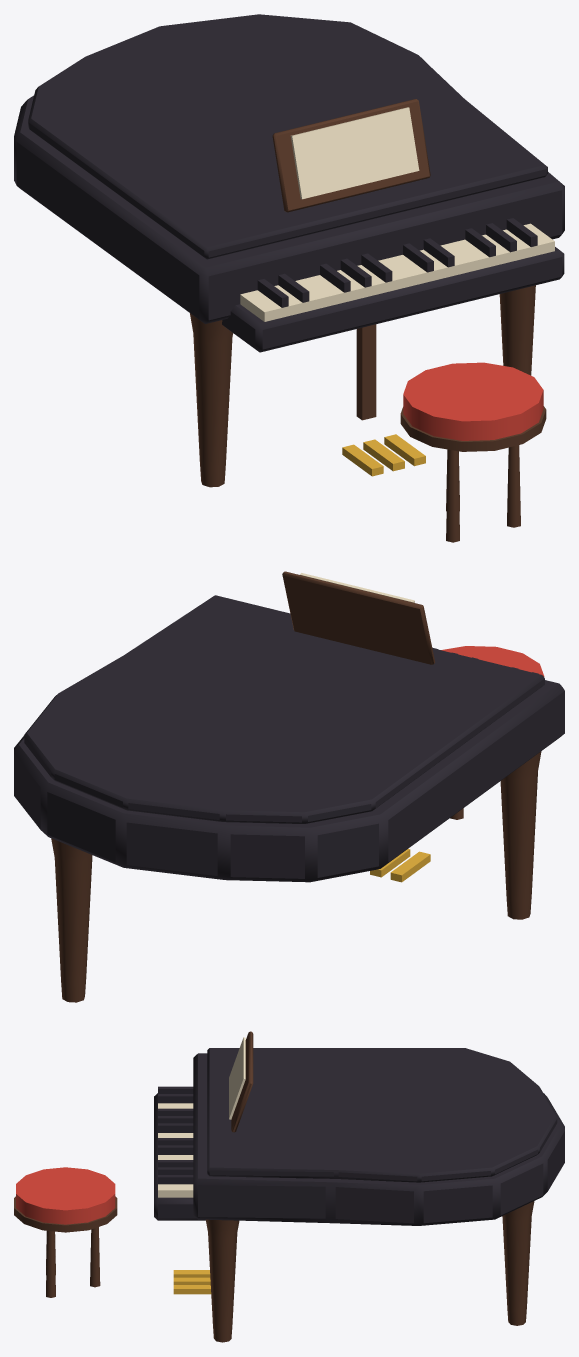
File: piano.glb
3 views of the same model, one above another, from view 1: azimuth 30°, elevation 25°; view 2: azimuth 150°, elevation 25°; view 3: azimuth 270°, elevation 25° (orthographic). The views are drawn at different scales.
Parts seen in each view (by area): view 1: piano; view 2: piano; view 3: piano.
Boxes of the visible parts, x1=… form: piano: x1=14, y1=14, x2=564, y2=542; piano: x1=14, y1=571, x2=564, y2=1002; piano: x1=14, y1=1031, x2=564, y2=1342.
Size of the model in its own units: 1.64 by 1.28 by 2.81.
